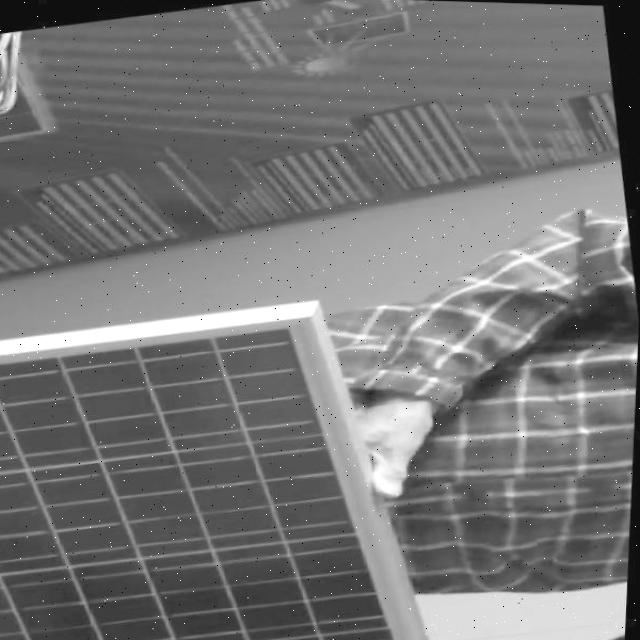Normal Solar Panel: (0, 289, 460, 640)
